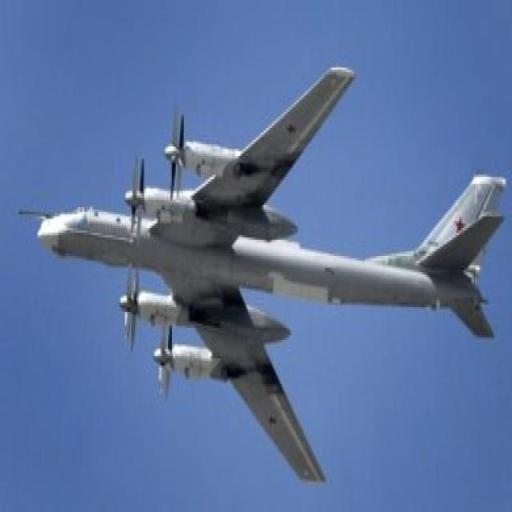uav: (26, 60, 504, 482)
